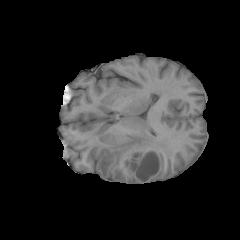glioma: (96, 132, 172, 181)
